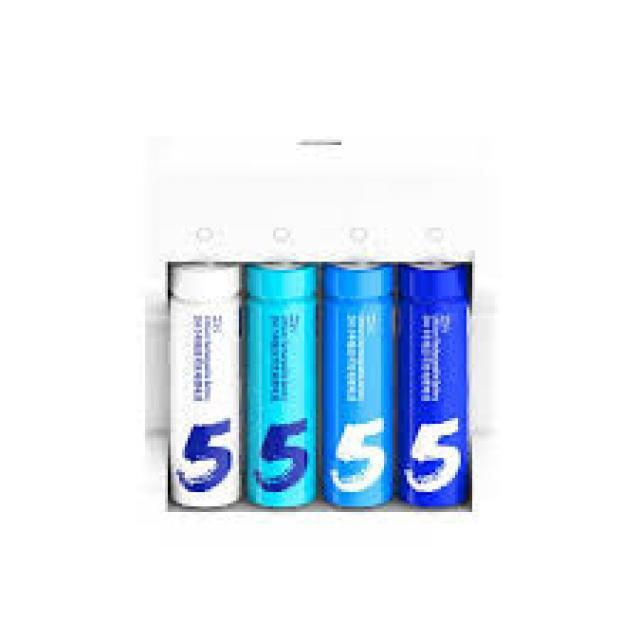battery: (240, 262, 324, 513), (164, 259, 245, 514), (318, 262, 398, 510), (397, 262, 470, 509)
